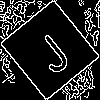J: (25, 24, 74, 77)
